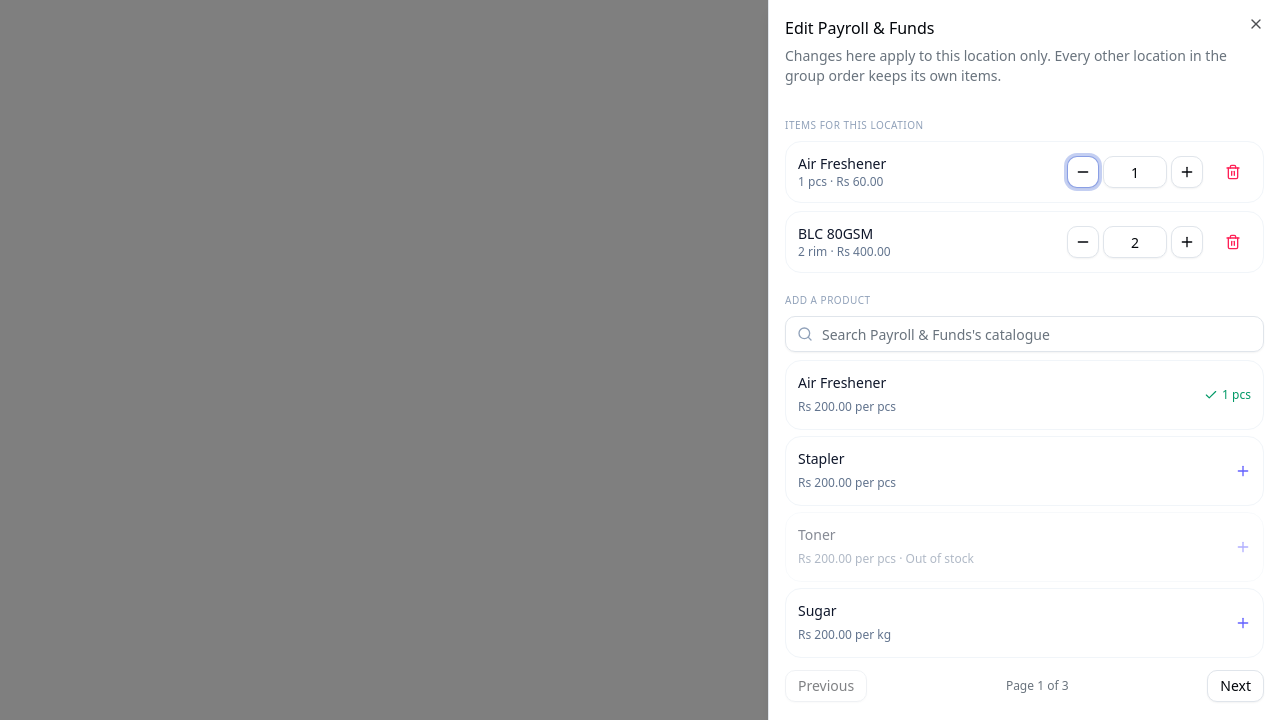
Test: ReviewLocationEditor › pages through a long catalogue and stops at either end
The width and height of the screenshot is (1280, 720).
Expected: the button "Previous" is disabled, x1=785 y1=670 x2=867 y2=702
Click the button "Next" at (1236, 686), box x1=1207 y1=670 x2=1264 y2=702
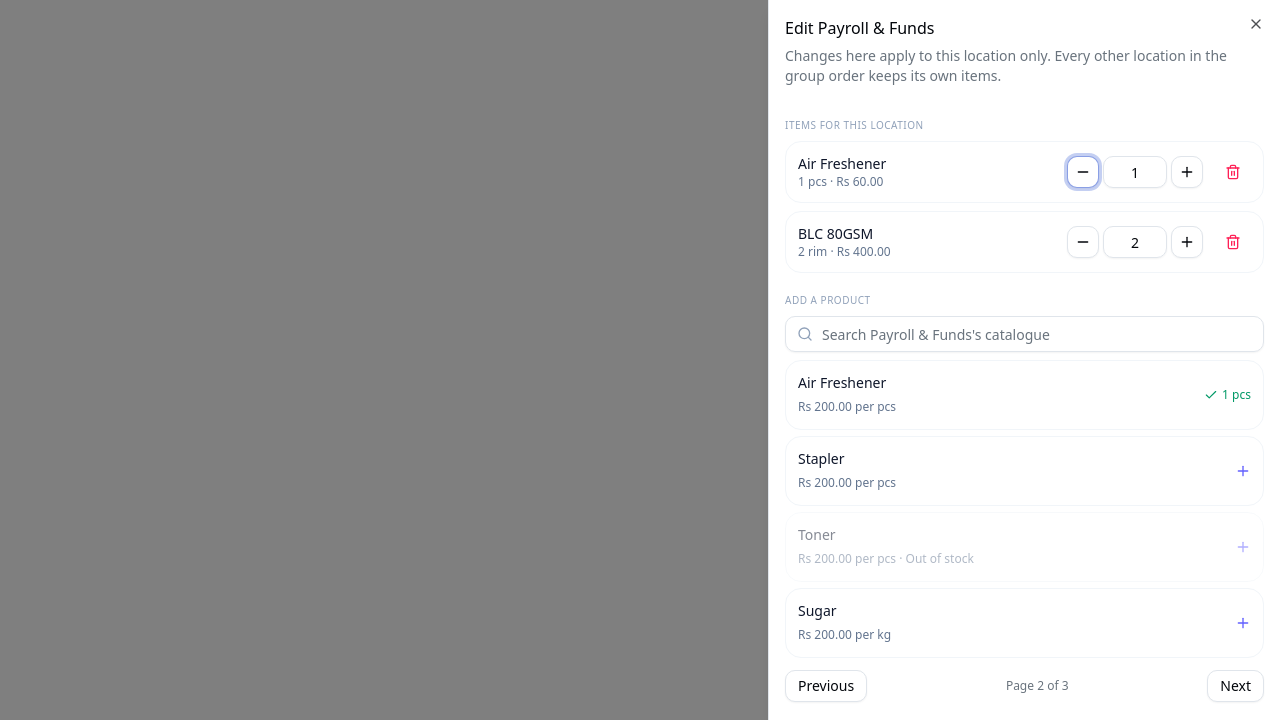
Click the button "Next" at (1236, 686), box x1=1207 y1=670 x2=1264 y2=702
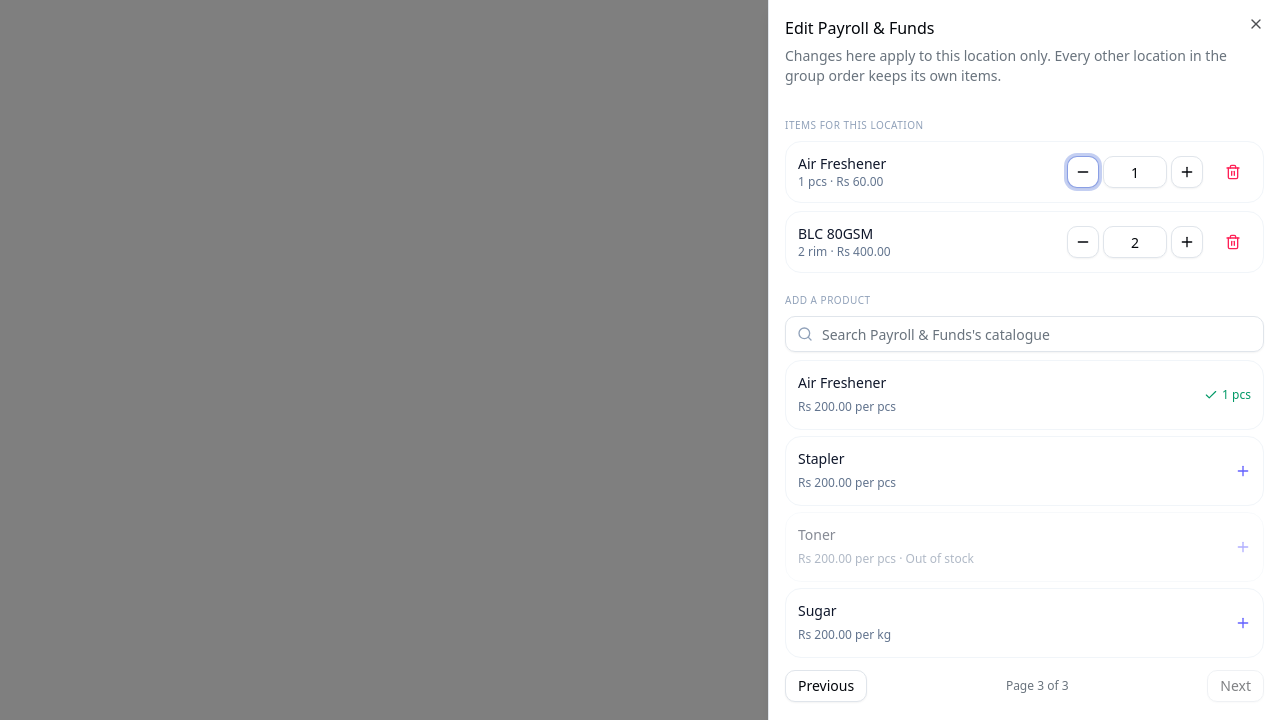
Expected: the text "Page 3 of 3" is shown, x1=1006 y1=678 x2=1069 y2=694
Expected: the button "Next" is disabled, x1=1207 y1=670 x2=1264 y2=702
